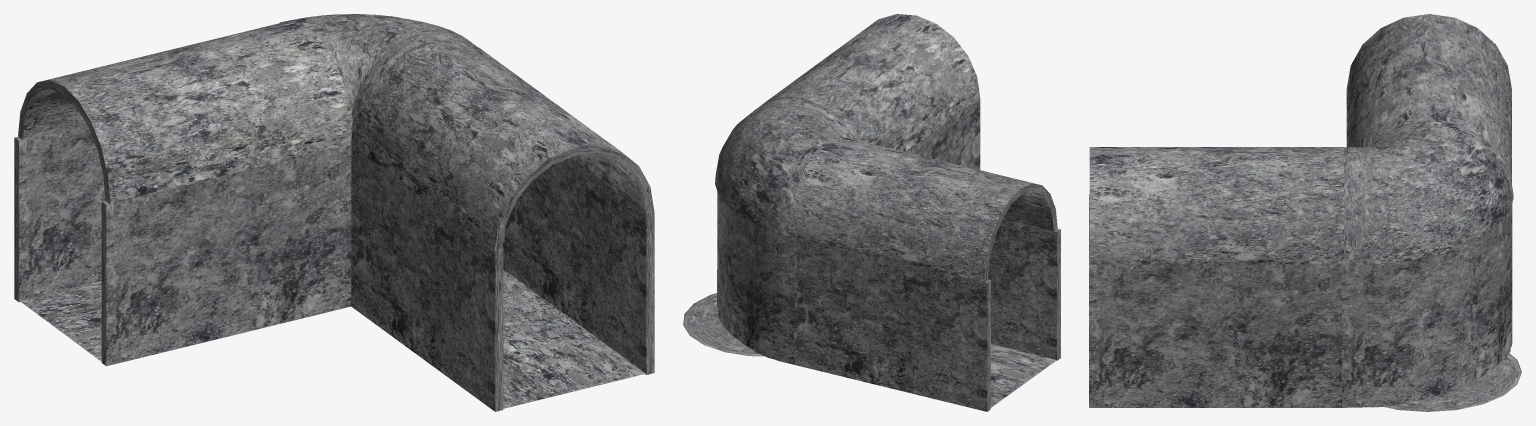
File: grot af.fbx
3 views of the same model, side by side, from view 1: azimuth 30°, elevation 25°; view 2: azimuth 150°, elevation 25°; view 3: azimuth 270°, elevation 25° (orthographic). The views are drawn at different scales.
Visible parts, largest first — view 1: pasted__pPipe2 (×3), pasted__pasted__pCube2 (×2), pCube2, pasted__pCube2 (×2), pCube4, pPipe2, pasted__pasted__pPipe2, pasted__pCube4; view 2: pasted__pPipe2 (×3), pasted__pCube2, pasted__pasted__pPipe2, pasted__pasted__pCube2 (×2), pCube2, pPipe2, pasted__pCube4, pSphere1; view 3: pasted__pPipe2 (×3), pasted__pCube2, pasted__pasted__pCube2, pasted__pasted__pPipe2, pPipe2, pSphere1.
Boxes of the visible parts, box(x1,y1,x2,y2) form: pasted__pPipe2 (×3): box(18, 14, 644, 221); pasted__pasted__pCube2 (×2): box(101, 145, 654, 374); pCube2: box(351, 146, 503, 411); pasted__pCube2 (×2): box(14, 125, 654, 373); pCube4: box(503, 269, 645, 408); pPipe2: box(353, 120, 654, 251); pasted__pasted__pPipe2: box(18, 20, 307, 202); pasted__pCube4: box(20, 281, 101, 361); pasted__pPipe2 (×3): box(715, 14, 1057, 281); pasted__pCube2: box(790, 237, 990, 411); pasted__pasted__pPipe2: box(789, 141, 1054, 282); pasted__pasted__pCube2 (×2): box(717, 192, 1060, 364); pCube2: box(907, 99, 980, 169); pPipe2: box(880, 14, 980, 152); pasted__pCube4: box(991, 344, 1056, 407); pSphere1: box(683, 293, 764, 356); pasted__pPipe2 (×3): box(1091, 14, 1513, 264); pasted__pCube2: box(1089, 260, 1346, 407); pasted__pasted__pCube2: box(1342, 202, 1512, 407); pasted__pasted__pPipe2: box(1371, 14, 1511, 183); pPipe2: box(1089, 147, 1342, 264); pSphere1: box(1384, 353, 1521, 411).
Size of the model in its own units: 33.27 by 18.86 by 33.66.
Materials: 1 (1 with a texture image).
